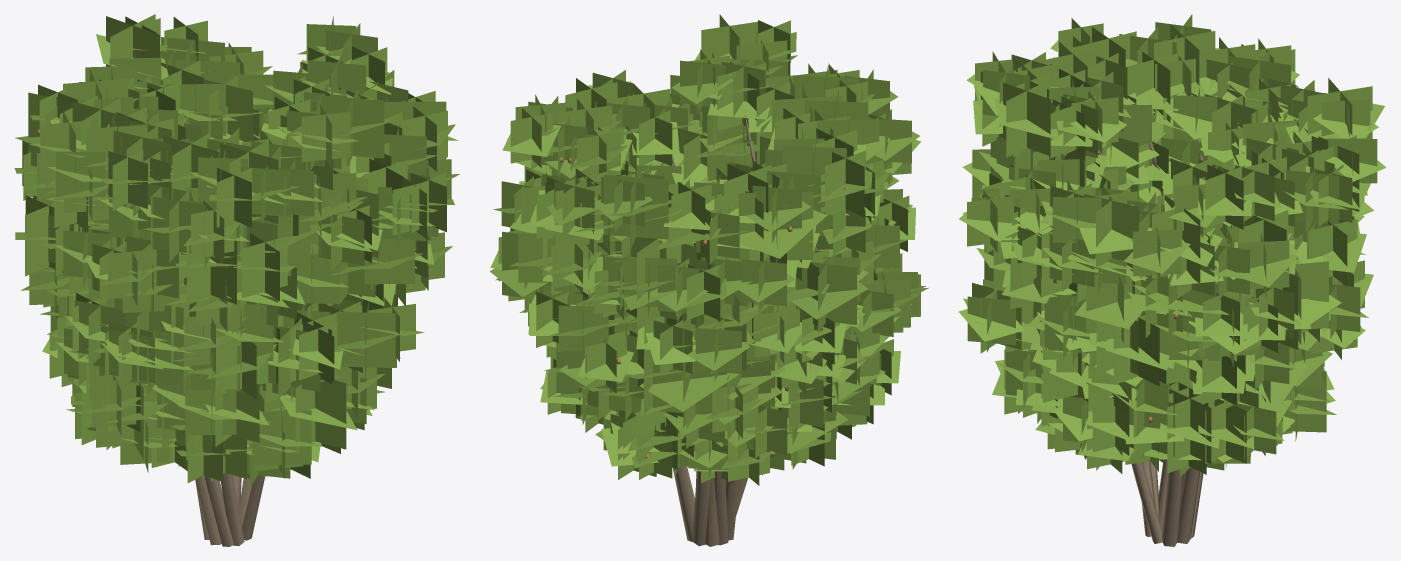
File: noisetier_3_f3_jeu.glb
3 views of the same model, side by side, from view 1: azimuth 30°, elevation 25°; view 2: azimuth 150°, elevation 25°; view 3: azimuth 270°, elevation 25° (orthographic). The views are drawn at different scales.
Visible parts, largest first — view 1: Noisetier_T3_f3_Leger; view 2: Noisetier_T3_f3_Leger; view 3: Noisetier_T3_f3_Leger.
Boxes of the visible parts, x1=… form: Noisetier_T3_f3_Leger: x1=14, y1=14, x2=459, y2=546; Noisetier_T3_f3_Leger: x1=490, y1=14, x2=928, y2=546; Noisetier_T3_f3_Leger: x1=958, y1=14, x2=1386, y2=546.
Size of the model in its own units: 4.86 by 5.55 by 4.57.
